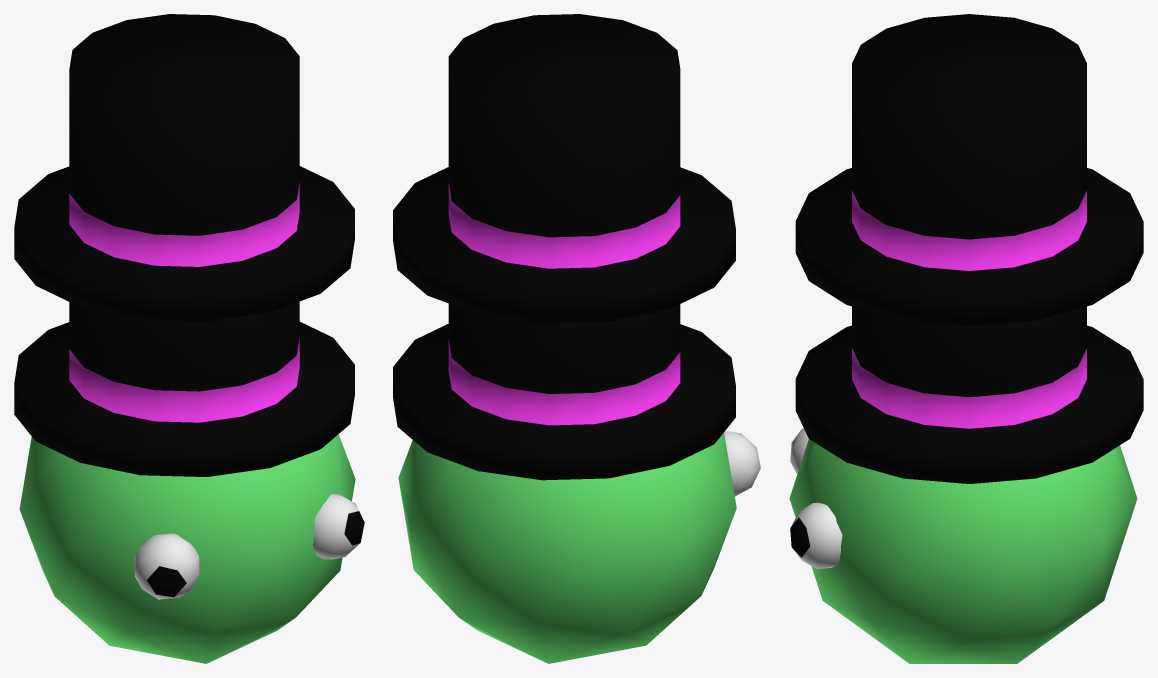
File: carlile.glb
3 renders of one model, left to right at view 1: azimuth 30°, elevation 25°; view 2: azimuth 150°, elevation 25°; view 3: azimuth 270°, elevation 25°, orthographic.
Visible parts, largest first — view 1: TopHat, Head, Hat, EyeRight, EyeLeft; view 2: TopHat, Head, Hat, EyeRight; view 3: TopHat, Head, Hat, EyeLeft.
Boxes of the visible parts, x1=… form: TopHat: x1=14, y1=14, x2=354, y2=321; Head: x1=19, y1=434, x2=355, y2=663; Hat: x1=14, y1=301, x2=354, y2=476; EyeRight: x1=134, y1=533, x2=199, y2=599; EyeLeft: x1=312, y1=494, x2=364, y2=559; TopHat: x1=393, y1=14, x2=735, y2=323; Head: x1=398, y1=433, x2=736, y2=663; Hat: x1=393, y1=303, x2=735, y2=480; EyeRight: x1=724, y1=431, x2=760, y2=496; TopHat: x1=795, y1=14, x2=1143, y2=326; Head: x1=789, y1=439, x2=1137, y2=663; Hat: x1=795, y1=306, x2=1143, y2=483; EyeLeft: x1=790, y1=502, x2=842, y2=568.
Size of the model in its own units: 2 by 3.76 by 2.03.
